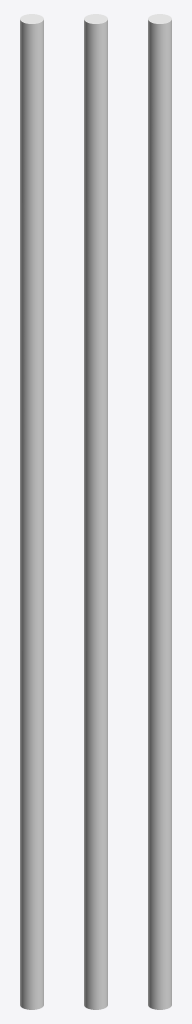
Rendered from flask_stick.glb.
3 views of the same model, side by side, from view 1: azimuth 30°, elevation 25°; view 2: azimuth 210°, elevation 25°; view 3: azimuth 270°, elevation 25° (orthographic).
Parts seen in each view (by area): view 1: stick; view 2: stick; view 3: stick.
Boxes of the visible parts, x1,y1,x2,y2 form: stick: [20, 14, 43, 1009]; stick: [84, 14, 107, 1009]; stick: [148, 14, 171, 1009].
Size of the model in its own units: 0.00272 by 0.1235 by 0.0027.
1 material, 1 textured.
